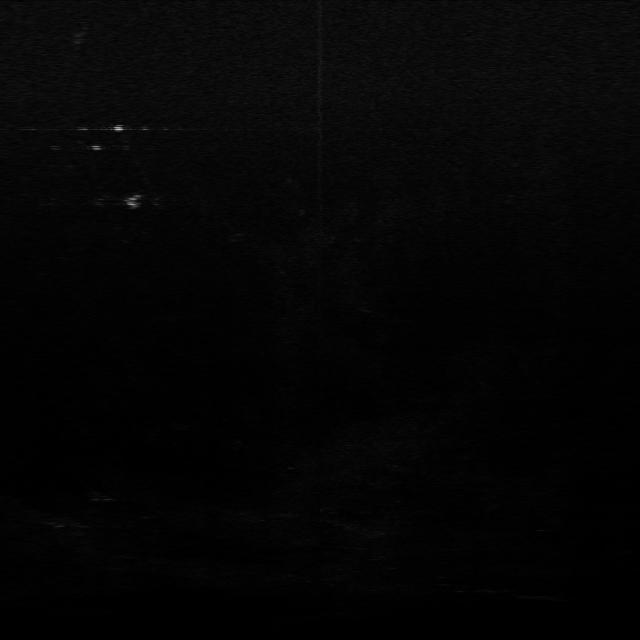rov: (122, 194, 142, 210)
